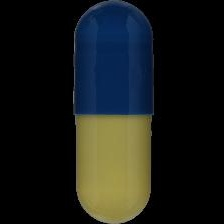57237-019: (0, 0, 224, 224)
